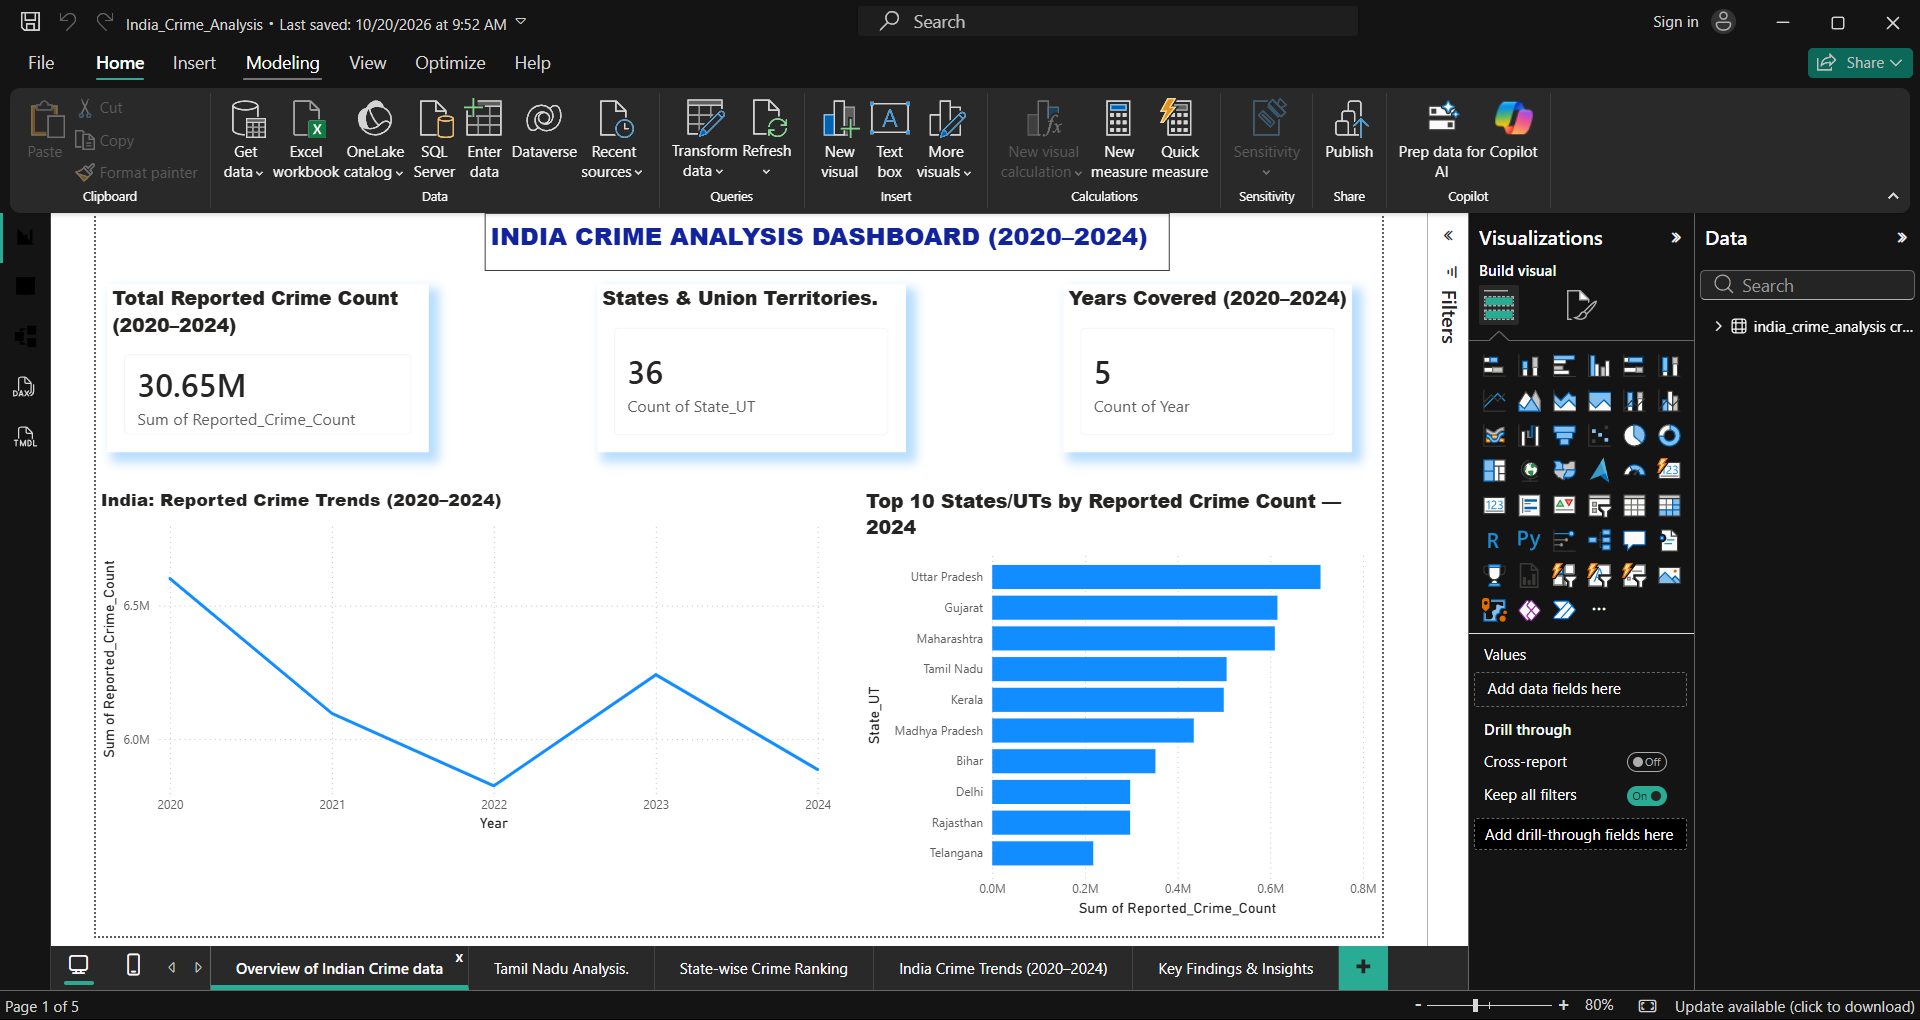

The page's visual inventory and layout, read from the dashboard file:
{"tool":"powerbi","page":{"name":"Overview of Indian Crime data","canvas":[1280,720],"ordinal":0},"visuals":[{"type":"lineChart","title":"India: Reported Crime Trends (2020–2024)","fields":{"Category":["india_crime_analysis crime_data.Year"],"Y":["Sum(india_crime_analysis crime_data.Reported_Crime_Count)"]},"box":[0,272.4,736.4,348.3],"z":0},{"type":"cardVisual","title":"Total Reported Crime Count (2020–2024)","fields":{"Data":["Sum(india_crime_analysis crime_data.Reported_Crime_Count)"]},"box":[11.2,71.2,320,167.5],"z":1000},{"type":"cardVisual","title":"States & Union Territories.","fields":{"Data":["Count(india_crime_analysis crime_data.State_UT)"]},"box":[498.8,71.2,307.5,167.5],"z":2000},{"type":"cardVisual","title":"Years Covered (2020–2024)","fields":{"Data":["Count(india_crime_analysis crime_data.Year)"]},"box":[962.5,71.2,287.5,167.5],"z":3000},{"type":"clusteredBarChart","title":"Top 10 States/UTs by Reported Crime Count — 2024","fields":{"Category":["india_crime_analysis crime_data.State_UT"],"Y":["Sum(india_crime_analysis crime_data.Reported_Crime_Count)"]},"box":[761.2,272.5,518.8,432.5],"z":4000},{"type":"textbox","box":[386.2,0,681.2,57.5],"z":5000}]}

Visuals, with their boxes on the page's 1280x720 design canvas (x1, y1, x2, y2). These are canvas units, not pixel positions in the 1920x1020 screenshot, which may show the page scaled, cropped or inside an application window:
"India: Reported Crime Trends (2020–2024)" lineChart: (0, 272, 736, 621)
"Total Reported Crime Count (2020–2024)" cardVisual: (11, 71, 331, 239)
"States & Union Territories." cardVisual: (499, 71, 806, 239)
"Years Covered (2020–2024)" cardVisual: (962, 71, 1250, 239)
"Top 10 States/UTs by Reported Crime Count — 2024" clusteredBarChart: (761, 272, 1280, 705)
textbox: (386, 0, 1067, 58)
